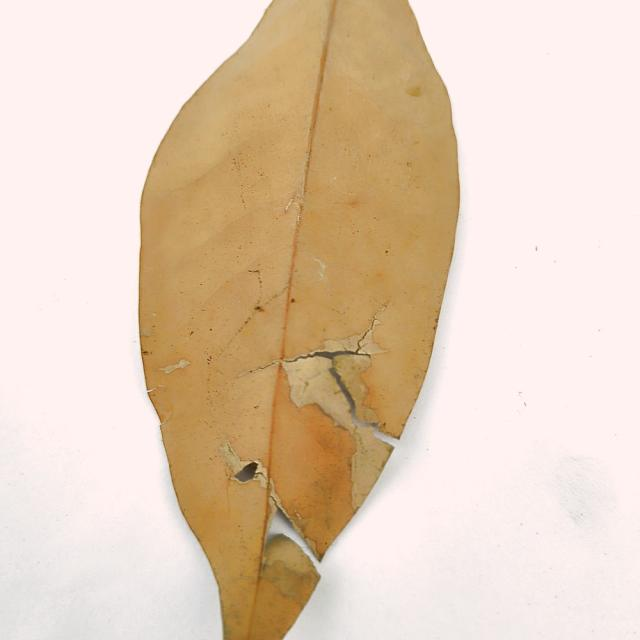Dry_Leaf-Lychee: (135, 0, 461, 639)
